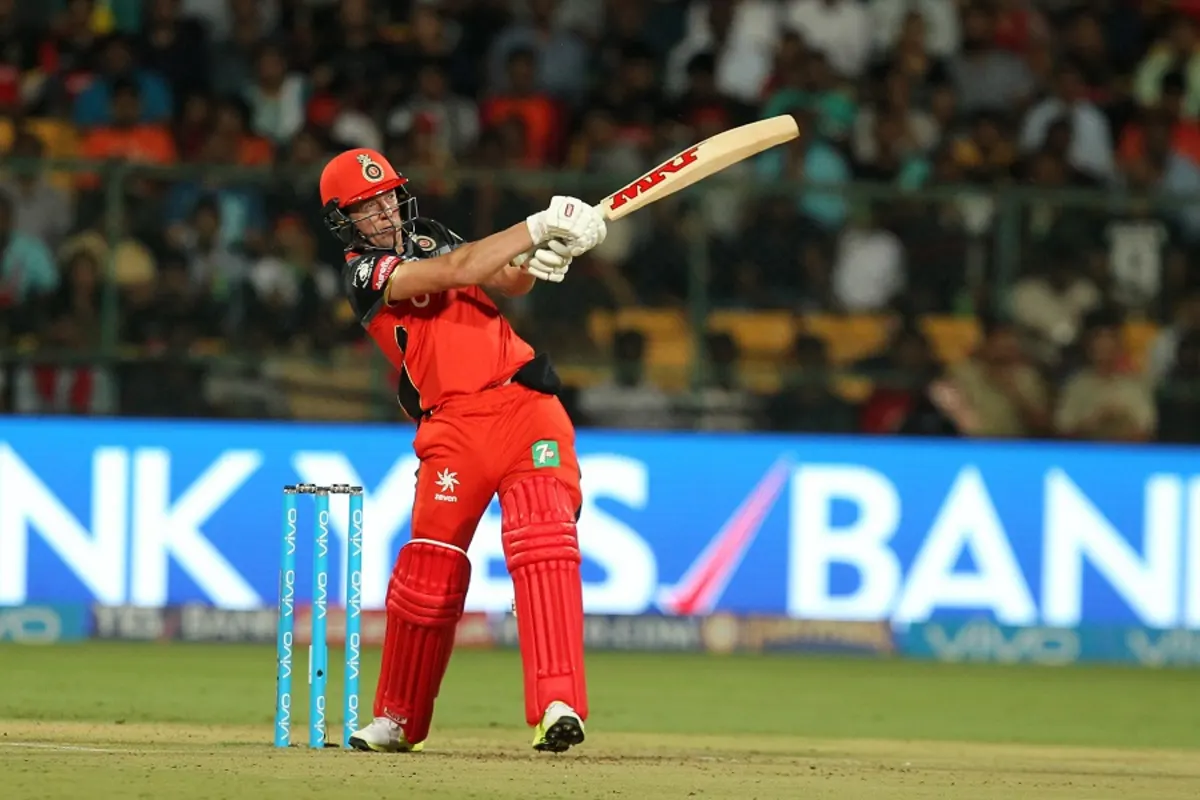Pullshot: (189, 0, 837, 800)
